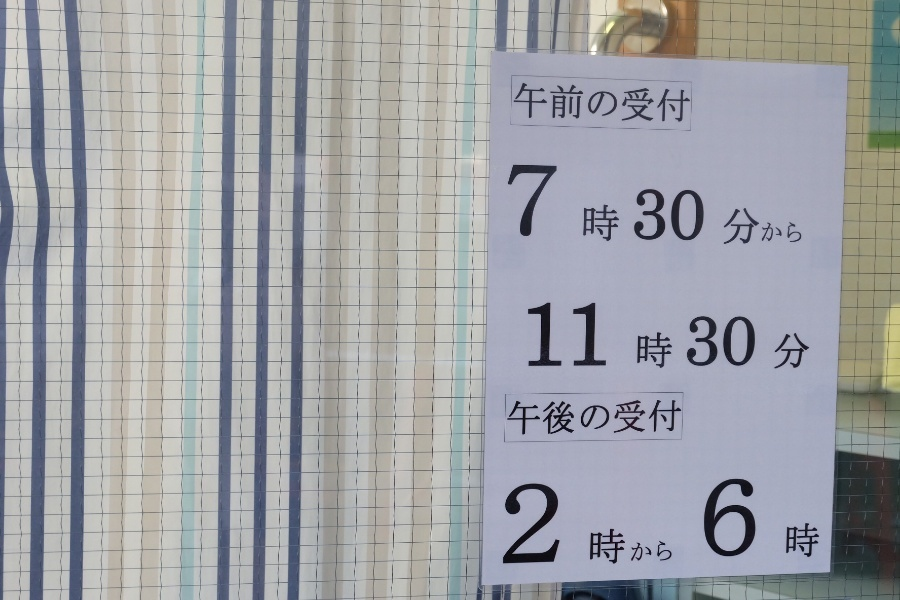text: (513, 164, 528, 247), (529, 164, 544, 247), (545, 164, 560, 247), (561, 164, 576, 247), (577, 164, 592, 247), (593, 164, 608, 247), (609, 164, 624, 247), (625, 164, 640, 247), (641, 164, 656, 247), (657, 164, 672, 247), (673, 164, 688, 247), (689, 164, 704, 247), (705, 164, 720, 247), (721, 164, 736, 247), (737, 164, 752, 247), (753, 164, 768, 247), (769, 164, 784, 247), (785, 164, 800, 247), (513, 484, 528, 566), (529, 484, 544, 566), (545, 484, 560, 566), (561, 484, 576, 566), (577, 484, 592, 566), (593, 484, 608, 566), (609, 484, 624, 566), (625, 484, 640, 566), (641, 484, 656, 566), (657, 484, 672, 566), (705, 479, 720, 559), (721, 479, 736, 559), (737, 479, 752, 559), (753, 479, 768, 559), (769, 479, 784, 559), (785, 479, 800, 559), (801, 479, 816, 559), (529, 304, 544, 369), (545, 304, 560, 369), (561, 304, 576, 369), (577, 304, 592, 369), (593, 304, 608, 369), (609, 304, 624, 369), (625, 304, 640, 369), (641, 304, 656, 369), (657, 304, 672, 369), (673, 304, 688, 369), (689, 304, 704, 369), (705, 304, 720, 369), (721, 304, 736, 369), (737, 304, 752, 369), (753, 304, 768, 369), (769, 304, 784, 369), (785, 304, 800, 369), (529, 83, 544, 124), (545, 83, 560, 124), (561, 83, 576, 124), (577, 83, 592, 124), (593, 83, 608, 124), (609, 83, 624, 124), (625, 83, 640, 124), (641, 83, 656, 124), (657, 83, 672, 124), (673, 83, 688, 124), (801, 304, 810, 369), (514, 83, 528, 124), (513, 400, 528, 436), (529, 400, 544, 436), (545, 400, 560, 436), (561, 400, 576, 436), (577, 400, 592, 436), (593, 400, 608, 436), (609, 400, 624, 436), (625, 400, 640, 436), (641, 400, 656, 436), (657, 400, 672, 436), (506, 484, 512, 566), (508, 164, 512, 247), (673, 400, 682, 436), (817, 479, 819, 559), (508, 400, 512, 436), (801, 164, 802, 247), (689, 83, 691, 124), (703, 479, 704, 559)
